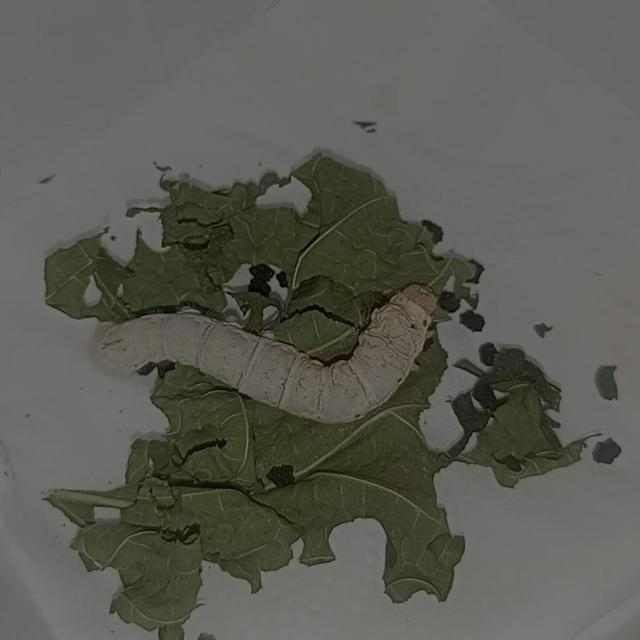Healthy: (68, 258, 460, 439)
